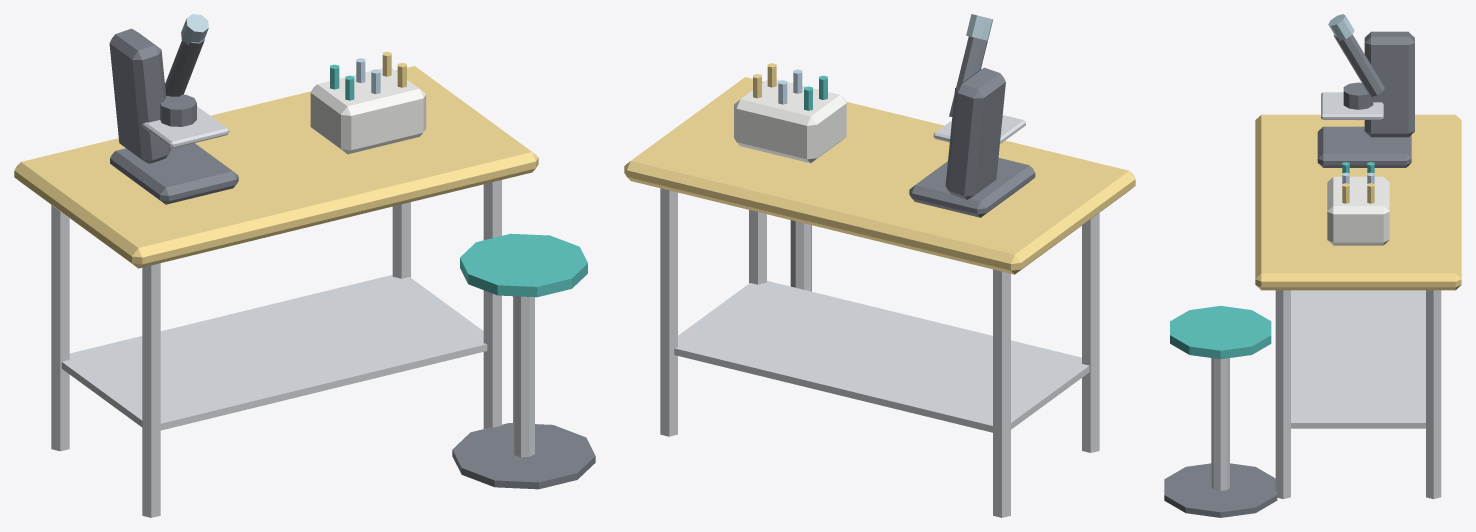
File: medical-23622.glb
3 views of the same model, side by side, from view 1: azimuth 30°, elevation 25°; view 2: azimuth 150°, elevation 25°; view 3: azimuth 270°, elevation 25° (orthographic). The views are drawn at different scales.
Parts seen in each view (by area): view 1: microscope-bench; view 2: microscope-bench; view 3: microscope-bench.
Boxes of the visible parts, x1,y1,x2,y2 form: microscope-bench: [14, 14, 595, 517]; microscope-bench: [624, 14, 1135, 517]; microscope-bench: [1164, 14, 1461, 517].
Size of the model in its own units: 1.31 by 1.32 by 0.9507.
